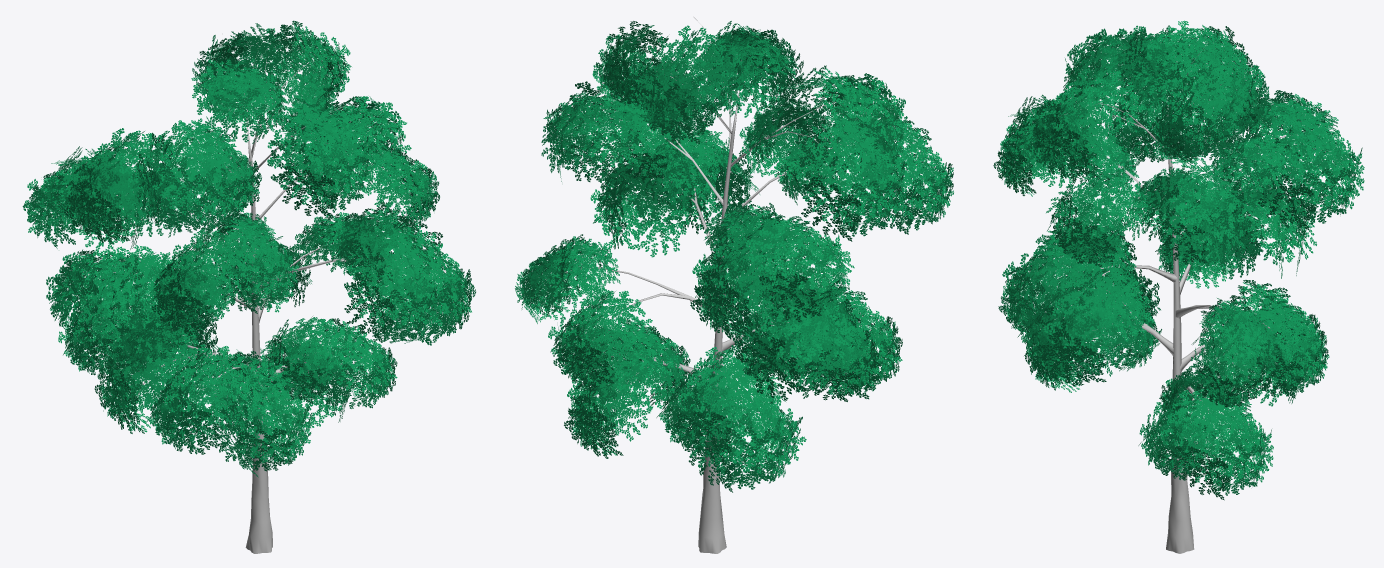
Rendered from Tree_Birch1.fbx.
3 views of the same model, side by side, from view 1: azimuth 30°, elevation 25°; view 2: azimuth 150°, elevation 25°; view 3: azimuth 270°, elevation 25° (orthographic). The views are drawn at different scales.
Visible parts, largest first — view 1: Tree_Birch1; view 2: Tree_Birch1; view 3: Tree_Birch1.
Boxes of the visible parts, x1,y1,x2,y2 form: Tree_Birch1: [22, 20, 475, 553]; Tree_Birch1: [515, 17, 953, 553]; Tree_Birch1: [993, 20, 1364, 553].
Bounding box in the file's own units: 401 × 554 × 365.
